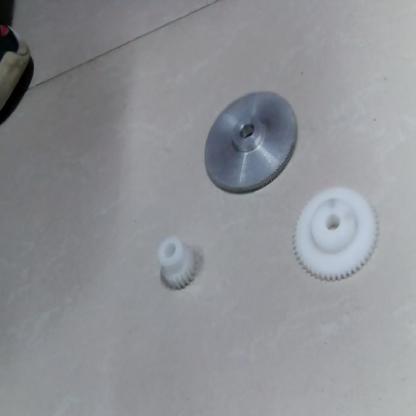FOD: (201, 90, 303, 198), (294, 184, 380, 285), (153, 235, 199, 292)
